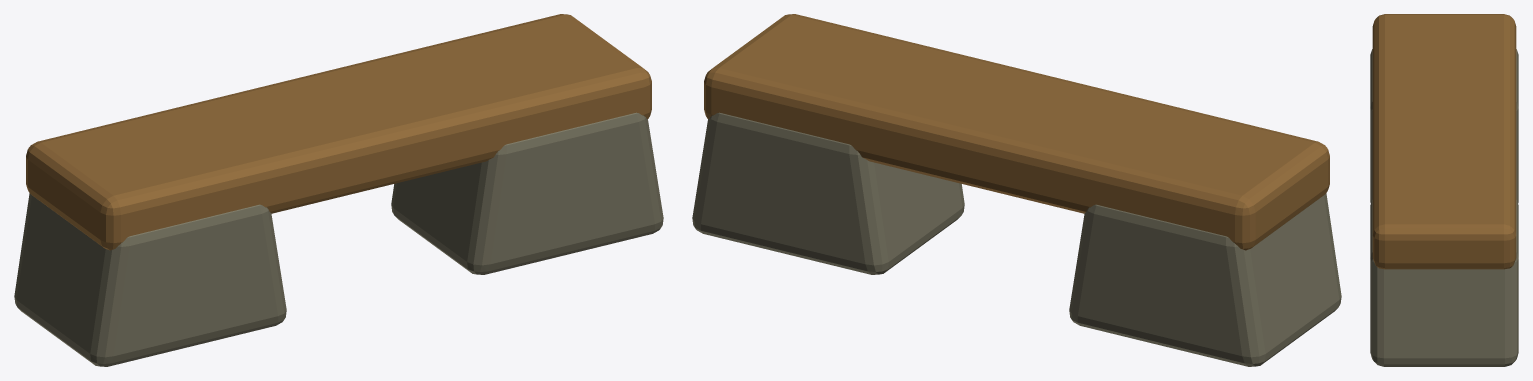
The model's file is VAULT_TIMBER_BRIDGE_END.hi.glb.
3 views of the same model, side by side, from view 1: azimuth 30°, elevation 25°; view 2: azimuth 150°, elevation 25°; view 3: azimuth 270°, elevation 25° (orthographic). The views are drawn at different scales.
Visible parts, largest first — view 1: Body_Mesh; view 2: Body_Mesh; view 3: Body_Mesh.
Part boxes in pixels (box(x1,y1,x2,y2)): Body_Mesh: box(14, 14, 663, 366); Body_Mesh: box(692, 14, 1341, 366); Body_Mesh: box(1370, 14, 1518, 366).
Bounding box in the file's own units: 1.09 × 0.305 × 0.3.
